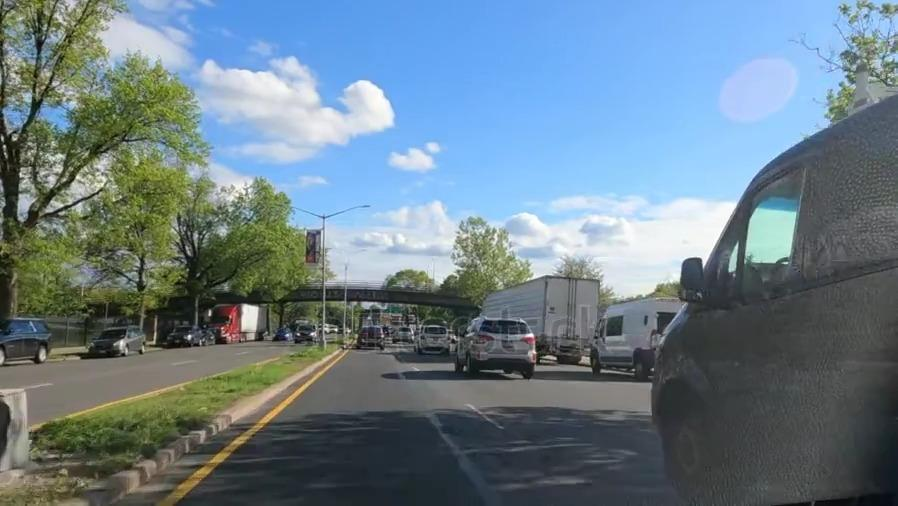car: (449, 320, 535, 372), (0, 320, 59, 363), (78, 327, 152, 358), (412, 324, 451, 354), (353, 325, 386, 351), (164, 326, 201, 349)
truck: (492, 277, 602, 339)
van: (676, 107, 897, 483), (596, 298, 667, 375)
wheel: (654, 389, 723, 501)
